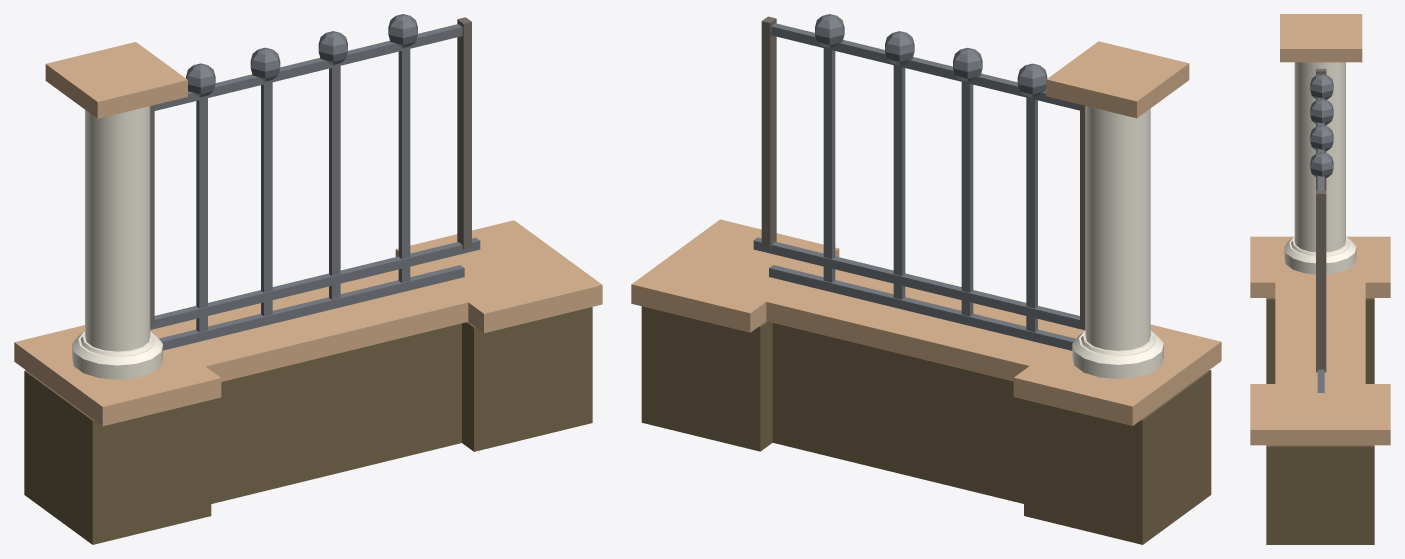
The model's file is fence.fbx.
3 renders of one model, left to right at view 1: azimuth 30°, elevation 25°; view 2: azimuth 150°, elevation 25°; view 3: azimuth 270°, elevation 25°, orthographic. The views are drawn at different scales.
Visible parts, largest first — view 1: polySurface475; view 2: polySurface475; view 3: polySurface475.
Part boxes in pixels (x1=…): polySurface475: x1=14, y1=14, x2=602, y2=544; polySurface475: x1=631, y1=14, x2=1221, y2=544; polySurface475: x1=1250, y1=14, x2=1390, y2=544.
Bounding box in the file's own units: 1.32 × 1.09 × 0.4036.
